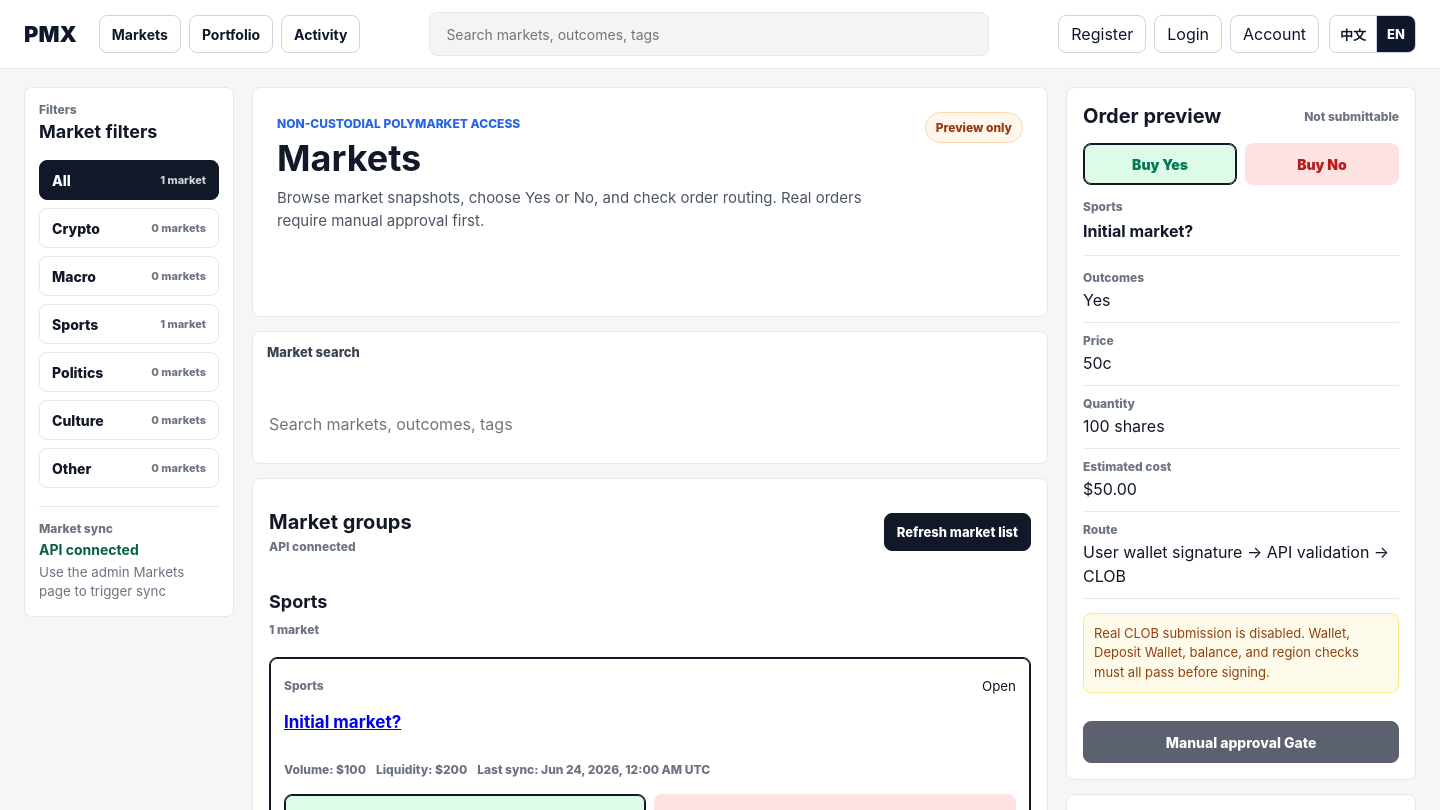
Test: Home › refreshes the public market list from the homepage button
The width and height of the screenshot is (1440, 810).
Expected: the link "Initial market?" is shown, x1=284 y1=712 x2=401 y2=732
Step 1. Click the button "Refresh market list" → (957, 532), box x1=884 y1=513 x2=1031 y2=551
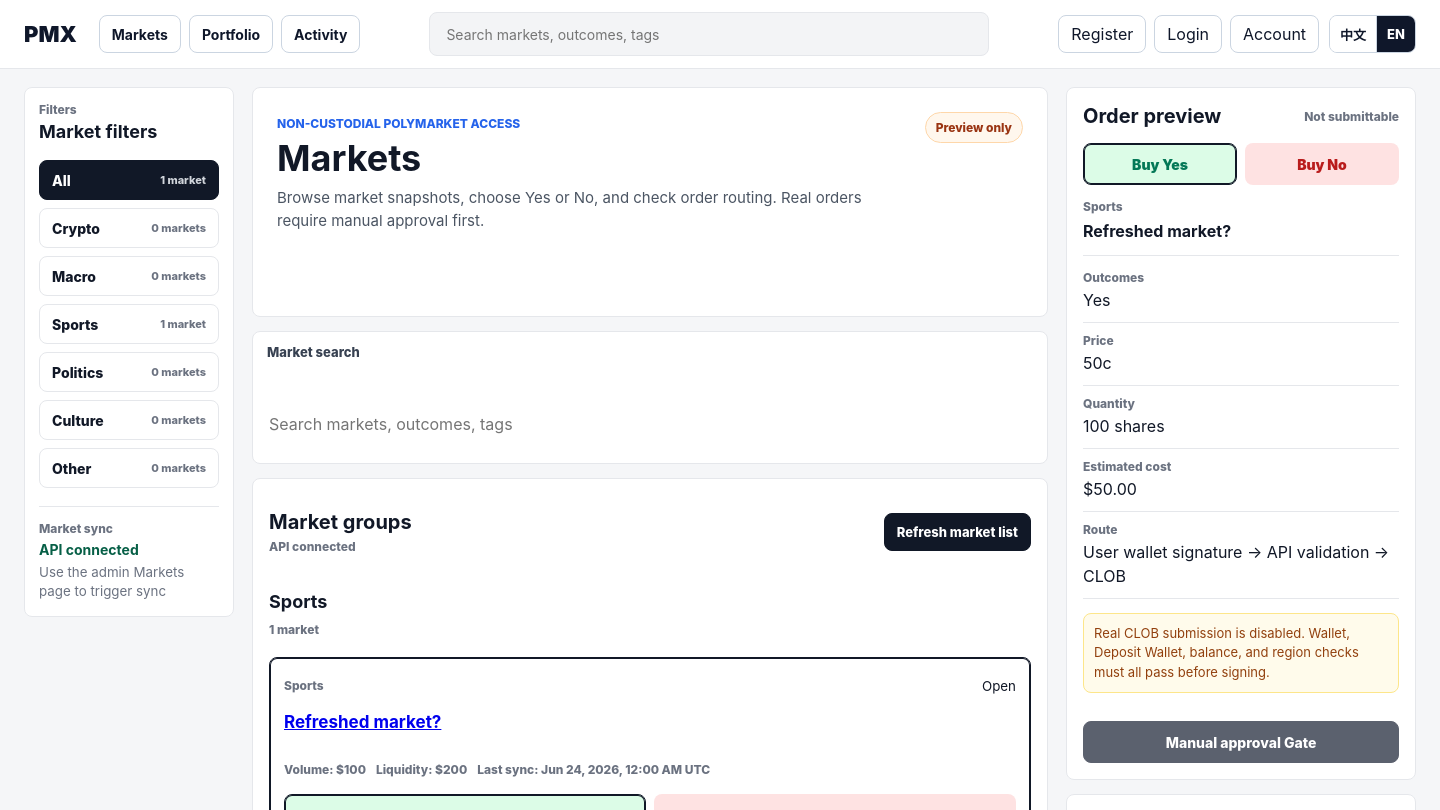
Now the link "Refreshed market?" is shown, box x1=284 y1=712 x2=441 y2=732
